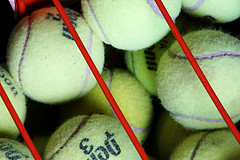tennis ball: (4, 3, 111, 107), (154, 23, 240, 138), (63, 62, 155, 150), (75, 1, 188, 54), (43, 110, 149, 159), (1, 64, 34, 145)
